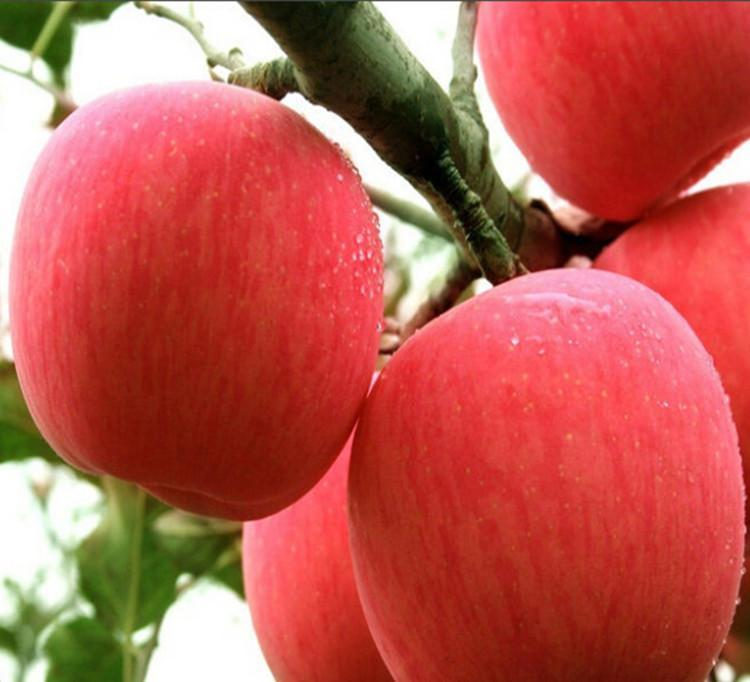apple: (342, 276, 746, 682), (11, 78, 381, 521), (468, 1, 750, 231)
